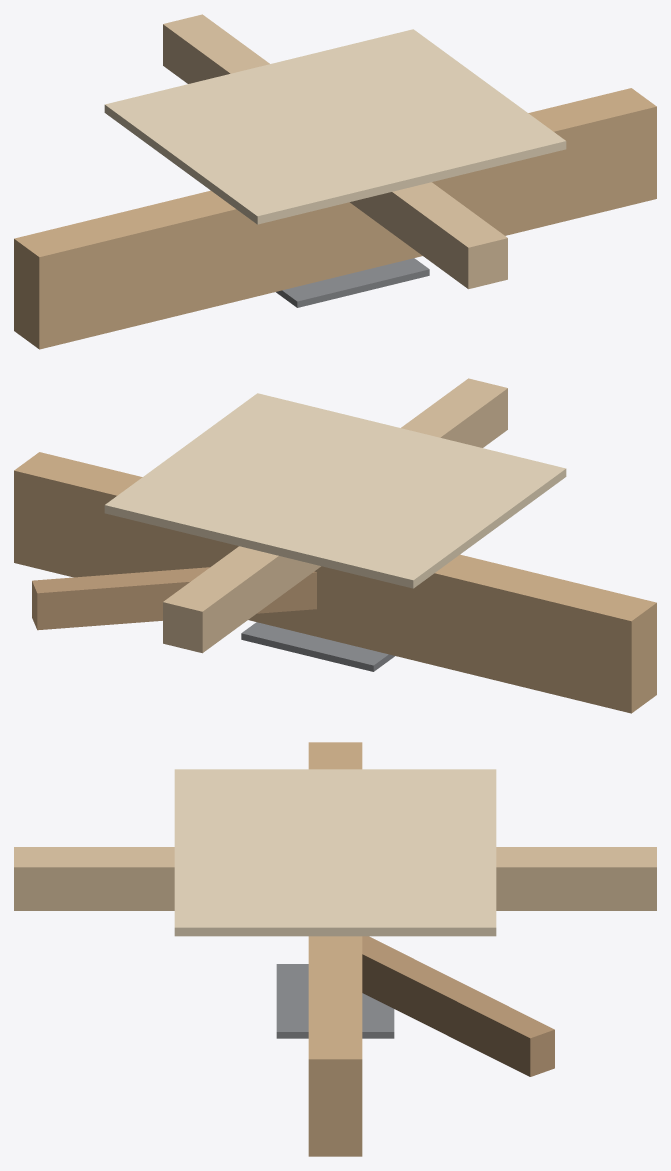
Rendered from joint.glb.
3 views of the same model, one above another, from view 1: azimuth 30°, elevation 25°; view 2: azimuth 150°, elevation 25°; view 3: azimuth 270°, elevation 25° (orthographic). The views are drawn at different scales.
Parts seen in each view (by area): view 1: F1_리브 (×2), P1_막힌패널, F2_도리, J1_노드철물; view 2: F1_리브 (×2), P1_막힌패널, F2_도리, F3_가새, J1_노드철물; view 3: P1_막힌패널, F2_도리, F1_리브 (×2), F3_가새, J1_노드철물.
Boxes of the visible parts, x1,y1,x2,y2 form: F1_리브 (×2): (14, 88, 656, 349); P1_막힌패널: (104, 29, 566, 224); F2_도리: (163, 14, 507, 289); J1_노드철물: (276, 258, 429, 307); F1_리브 (×2): (14, 452, 656, 713); P1_막힌패널: (104, 393, 566, 588); F2_도리: (163, 378, 507, 653); F3_가새: (32, 567, 316, 630); J1_노드철물: (241, 622, 394, 671); P1_막힌패널: (174, 769, 496, 936); F2_도리: (14, 847, 656, 910); F1_리브 (×2): (308, 742, 362, 1156); F3_가새: (362, 936, 554, 1076); J1_노드철물: (276, 964, 394, 1038).
Bounding box in the file's own units: 1.4 × 0.34 × 1.2.
